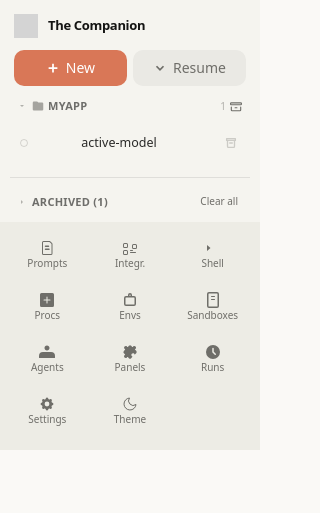
Scenario: Sidebar › context menu shows restore and delete for archived sessions
The width and height of the screenshot is (320, 513).
Expand the archived section first
Click the button "Archived (1)".
click(101, 202)  # box [10,190,192,214]
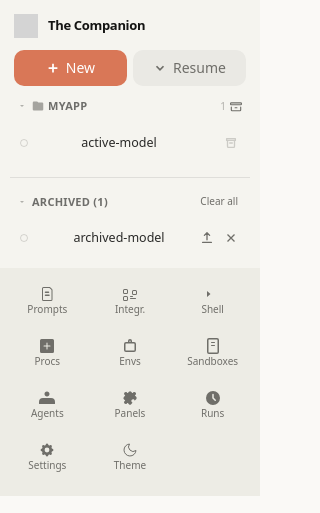
expect the button titled "Archive session" is shown: met, box [220,132,242,154]
expect the button titled "Restore session" is shown: met, box [196,227,218,249]
expect the button titled "Delete permanently" is shown: met, box [220,227,242,249]
